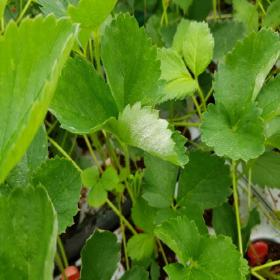Powdery Mildew Leaf: (212, 26, 279, 124), (47, 53, 119, 139), (118, 101, 190, 169)
